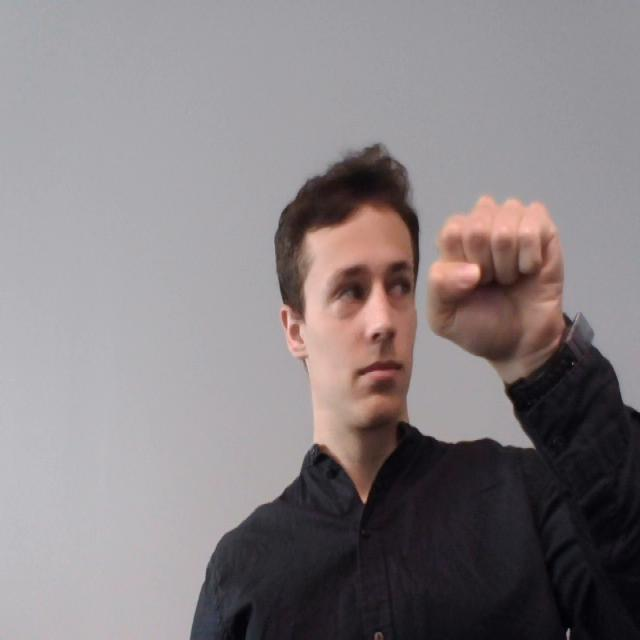stop: (428, 186, 576, 369)
